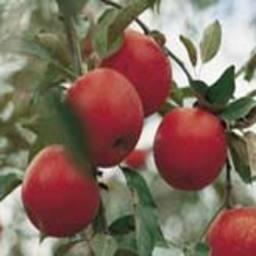apple: (78, 26, 174, 126), (62, 68, 146, 162), (20, 147, 100, 239), (152, 105, 226, 191)
